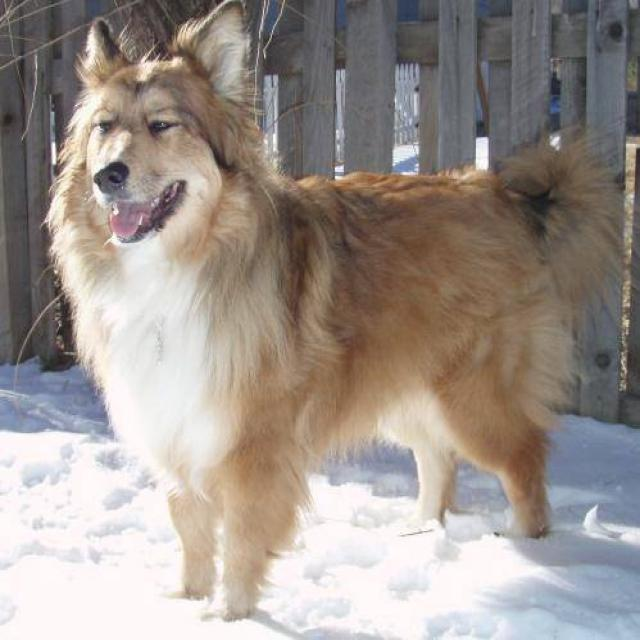dog: (42, 0, 626, 622)
